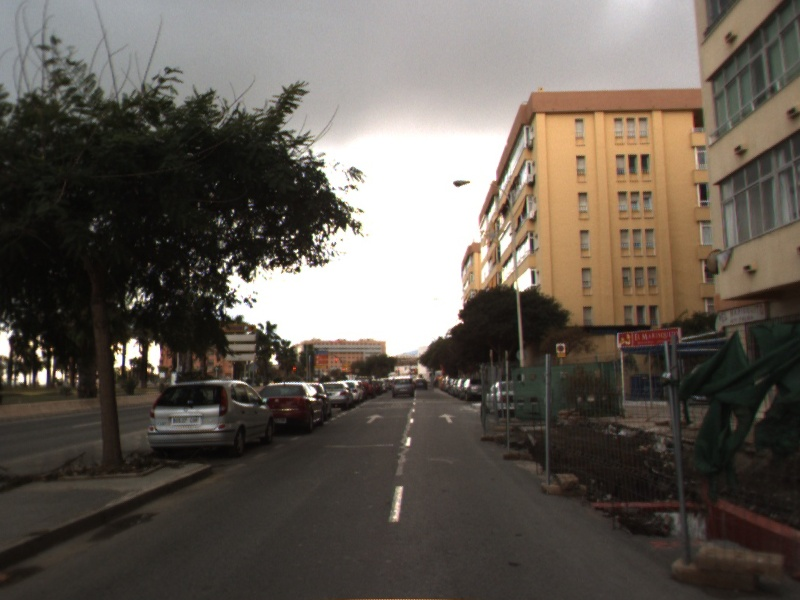STRAIGHT: (437, 412, 458, 424), (365, 413, 385, 424)
